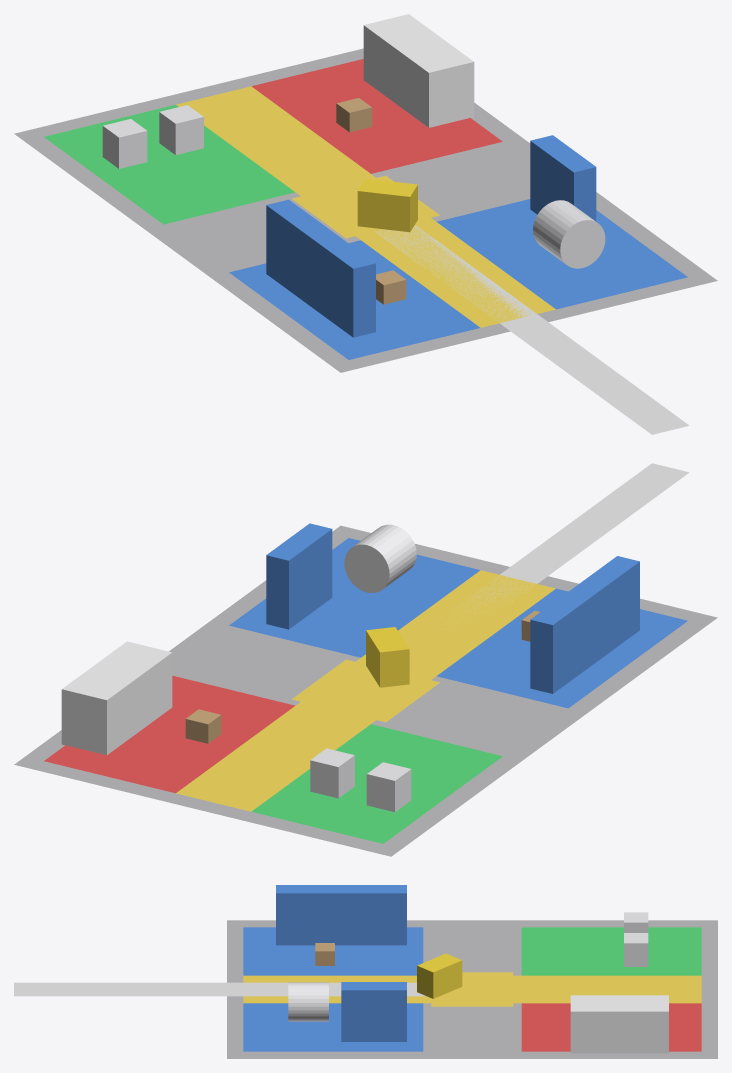
Rendered from AviationWarehouse_Unity6.fbx.
The picture shows the model from 3 angles, top to bottom: view 1: azimuth 30°, elevation 25°; view 2: azimuth 150°, elevation 25°; view 3: azimuth 270°, elevation 25°; orthographic projection. The views are drawn at different scales.
Parts seen in each view (by area): view 1: Floor_Concrete, Line_Forklift_Yellow, Line_Zone1_Green, Line_Zone3_Purple, Line_Zone5_Red, Line_Walkway_White, Prop_Truck_01, Line_Zone2_Blue, Prop_Rack_02, Prop_Rack_03, Prop_Rack_01, Prop_JetEngine (+6 smaller); view 2: Floor_Concrete, Line_Forklift_Yellow, Line_Zone1_Green, Line_Zone5_Red, Line_Zone3_Purple, Prop_Truck_01, Line_Zone2_Blue, Line_Walkway_White, Prop_Rack_03, Prop_Rack_01, Line_Zone4_Yellow, Prop_Rack_02 (+5 smaller); view 3: Floor_Concrete, Line_Zone1_Green, Line_Forklift_Yellow, Line_Zone2_Blue, Prop_Truck_01, Line_Zone3_Purple, Line_Walkway_White, Line_Zone5_Red, Prop_Rack_01, Prop_Rack_02, Prop_Rack_03, Line_Zone4_Yellow (+5 smaller).
Boxes of the visible parts, x1,y1,x2,y2 form: Floor_Concrete: (14, 48, 717, 372); Line_Forklift_Yellow: (176, 86, 555, 327); Line_Zone1_Green: (44, 104, 294, 224); Line_Zone3_Purple: (436, 199, 687, 309); Line_Zone5_Red: (251, 59, 502, 173); Line_Walkway_White: (375, 225, 689, 434); Prop_Truck_01: (363, 14, 474, 127); Line_Zone2_Blue: (229, 240, 480, 359); Prop_Rack_02: (309, 231, 375, 337); Prop_Rack_03: (530, 135, 596, 221); Prop_Rack_01: (266, 199, 331, 305); Prop_JetEngine: (533, 200, 605, 268); Floor_Concrete: (14, 525, 717, 856); Line_Forklift_Yellow: (176, 570, 555, 811); Line_Zone1_Green: (251, 724, 502, 843); Line_Zone5_Red: (44, 675, 294, 793); Line_Zone3_Purple: (229, 538, 480, 657); Prop_Truck_01: (61, 641, 172, 755); Line_Zone2_Blue: (437, 588, 687, 708); Line_Walkway_White: (424, 463, 689, 638); Prop_Rack_03: (266, 523, 332, 629); Prop_Rack_01: (530, 588, 596, 693); Line_Zone4_Yellow: (292, 659, 439, 722); Prop_Rack_02: (574, 556, 639, 661); Floor_Concrete: (227, 920, 717, 1058); Line_Zone1_Green: (521, 927, 701, 975); Line_Forklift_Yellow: (243, 975, 701, 1003); Line_Zone2_Blue: (243, 927, 423, 975); Prop_Truck_01: (570, 995, 668, 1053); Line_Zone3_Purple: (243, 1003, 423, 1051); Line_Walkway_White: (14, 982, 425, 996); Line_Zone5_Red: (521, 1003, 701, 1051); Prop_Rack_01: (341, 885, 406, 945); Prop_Rack_02: (276, 885, 341, 945); Prop_Rack_03: (341, 982, 406, 1041); Line_Zone4_Yellow: (431, 972, 513, 1006).
Size of the model in its own units: 20 by 3.5 by 43.
